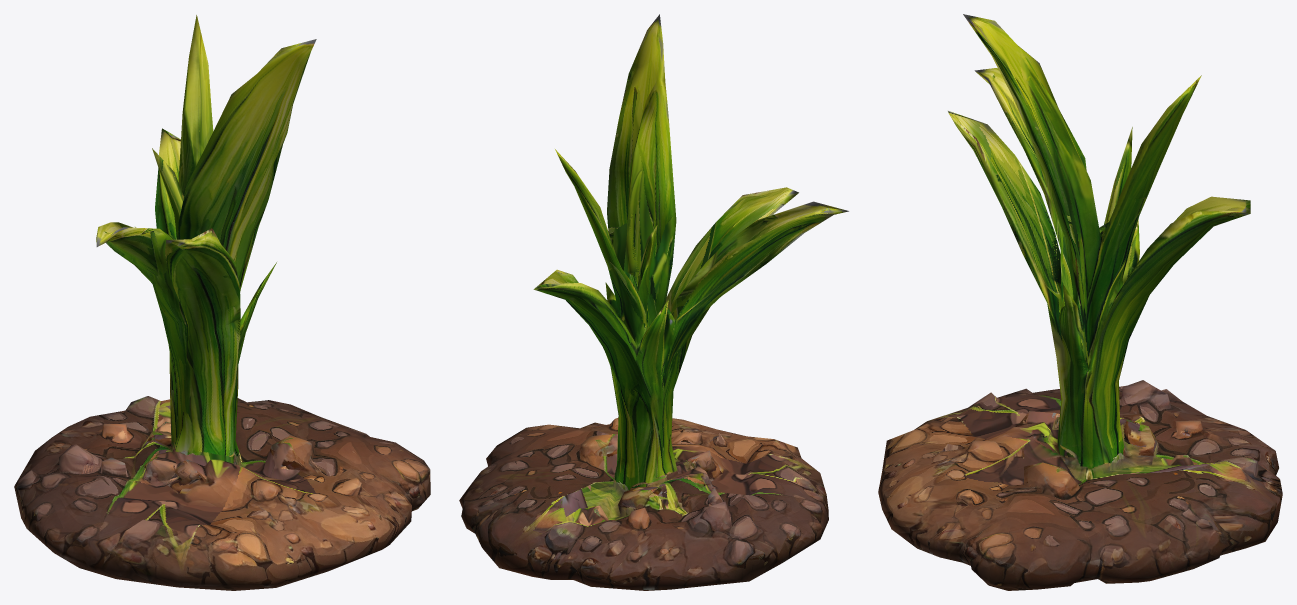
The model's file is Crop_Corn_Sprout.fbx.
3 renders of one model, left to right at view 1: azimuth 30°, elevation 25°; view 2: azimuth 150°, elevation 25°; view 3: azimuth 270°, elevation 25°, orthographic. The views are drawn at different scales.
Parts seen in each view (by area): view 1: texture_mapping; view 2: texture_mapping; view 3: texture_mapping.
Part boxes in pixels (left/top/right/bottom): texture_mapping: left=14, top=15, right=430, bottom=590; texture_mapping: left=459, top=14, right=848, bottom=590; texture_mapping: left=878, top=14, right=1282, bottom=590.
Size of the model in its own units: 0.7429 by 0.7022 by 1.01.
1 material, 1 textured.
